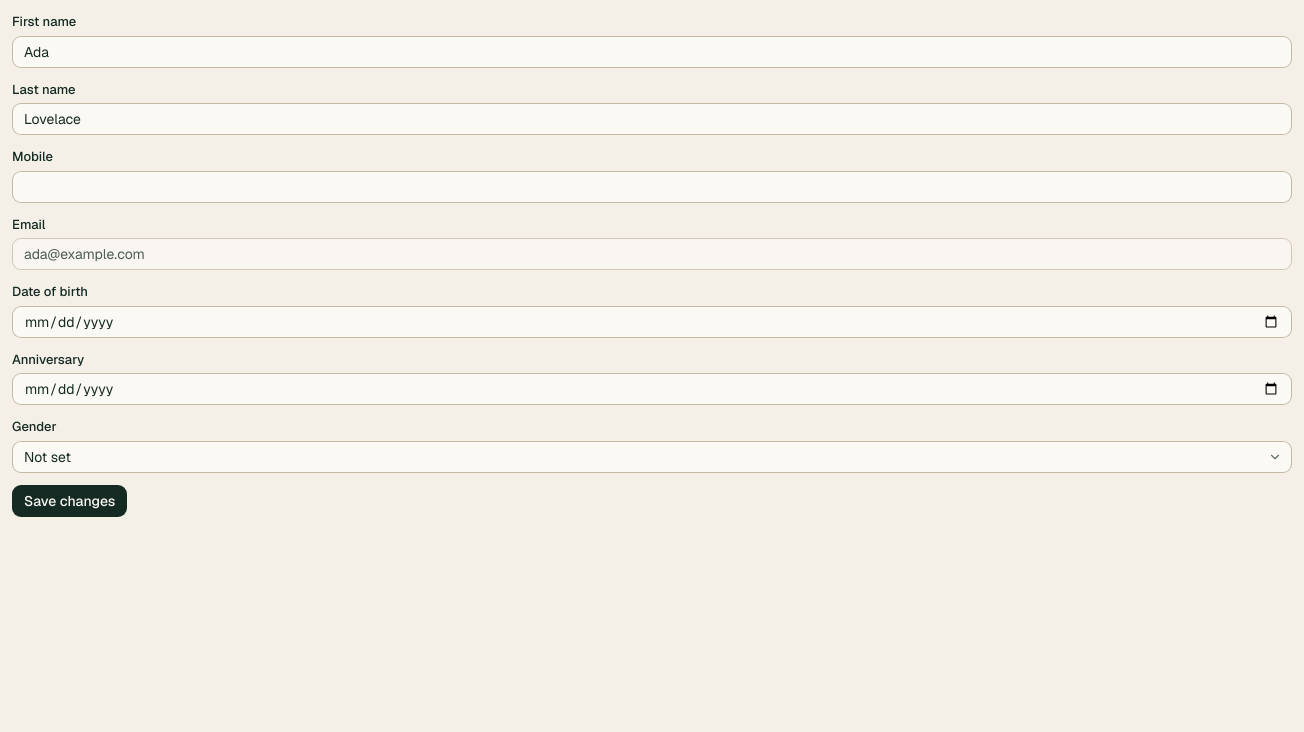
ProfileForm › saves an update
Type "9876543210" into the field labelled "Mobile" at (652, 186), box [12, 170, 1292, 202]
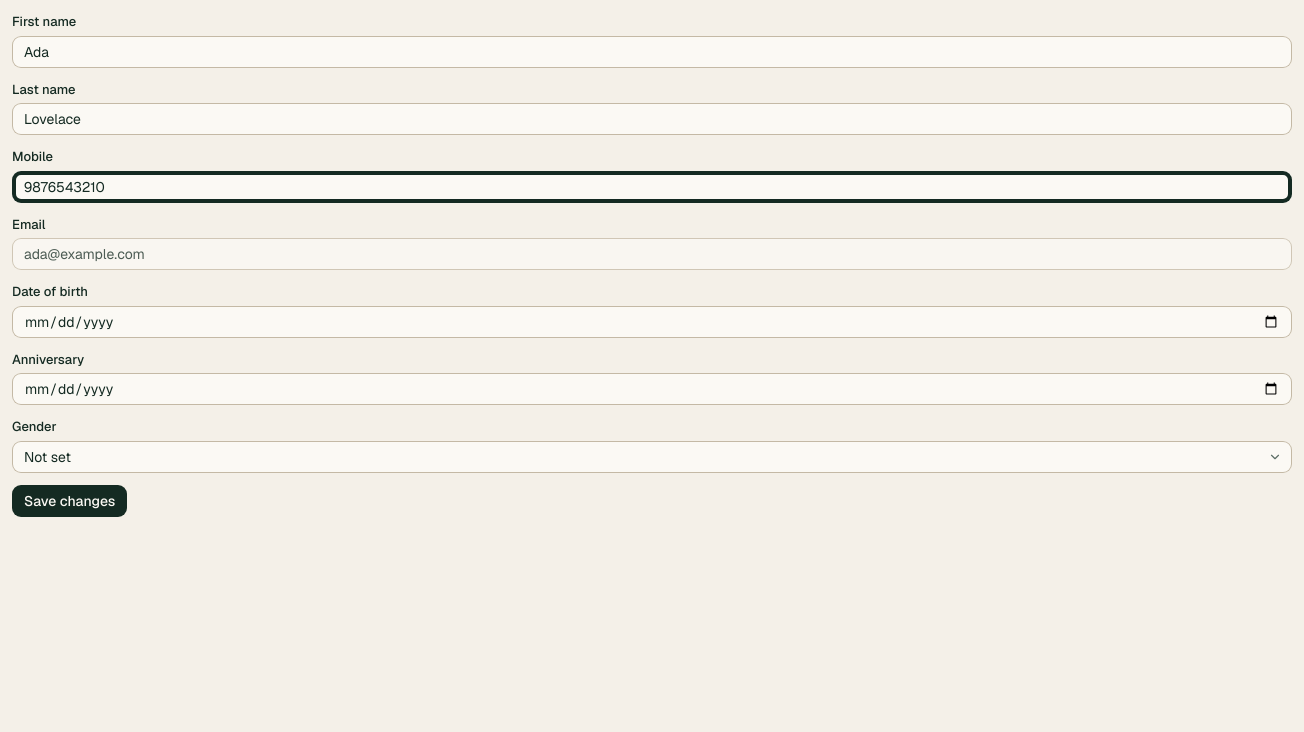
Click the button "Save changes" at (70, 500), box [12, 484, 127, 516]
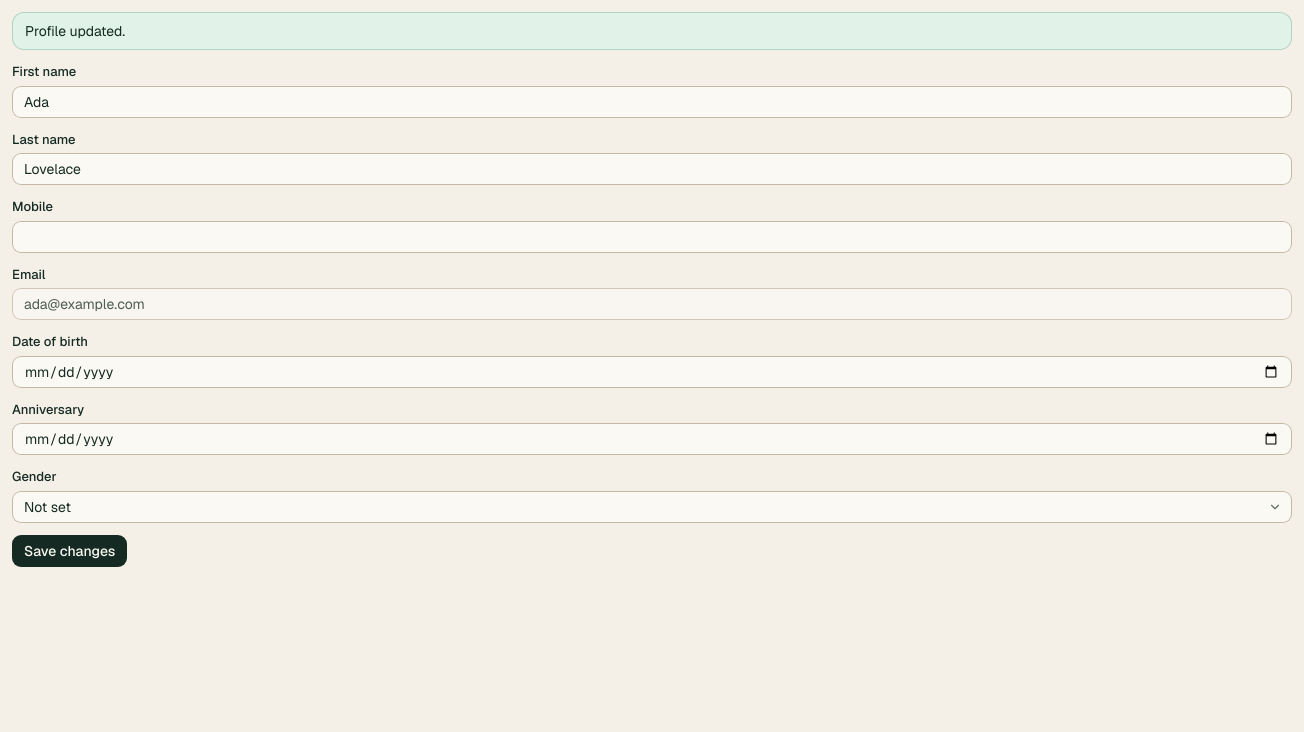
Check: the text "Profile updated." is shown, box [12, 12, 1292, 50]
